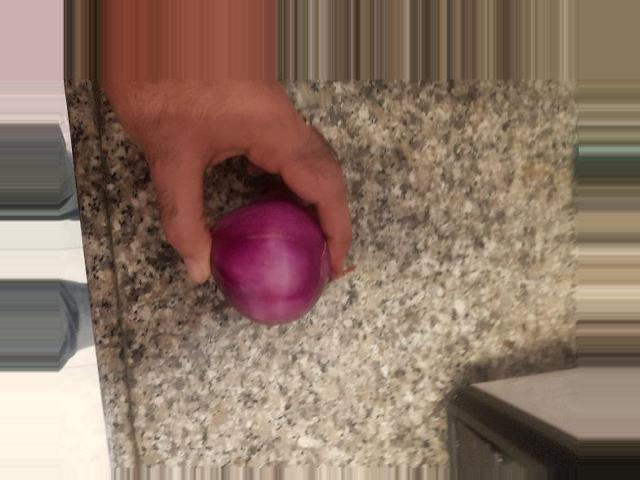onion: (317, 322, 431, 453)
